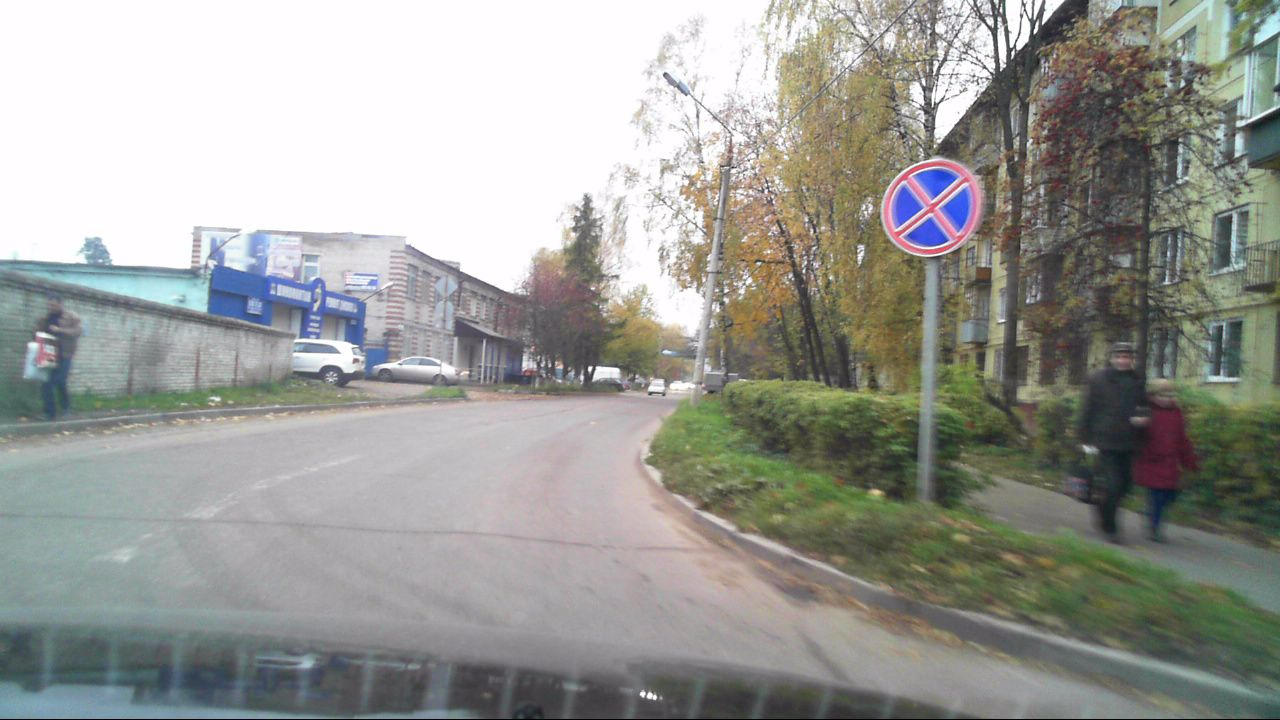No Parking: (879, 158, 983, 257)
